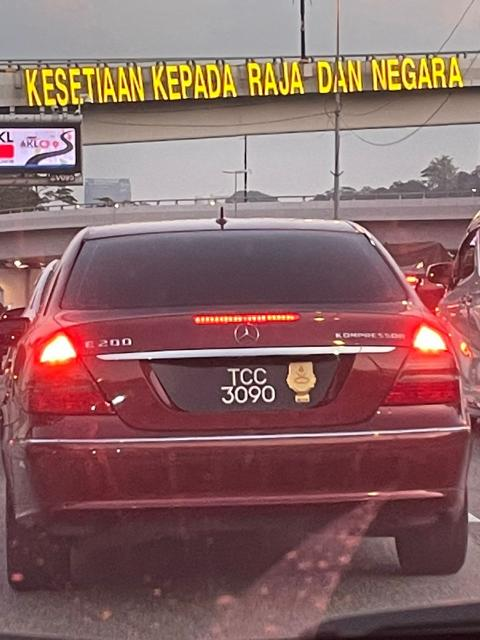License_Plate: (195, 366, 294, 411)
car: (2, 215, 477, 590)
